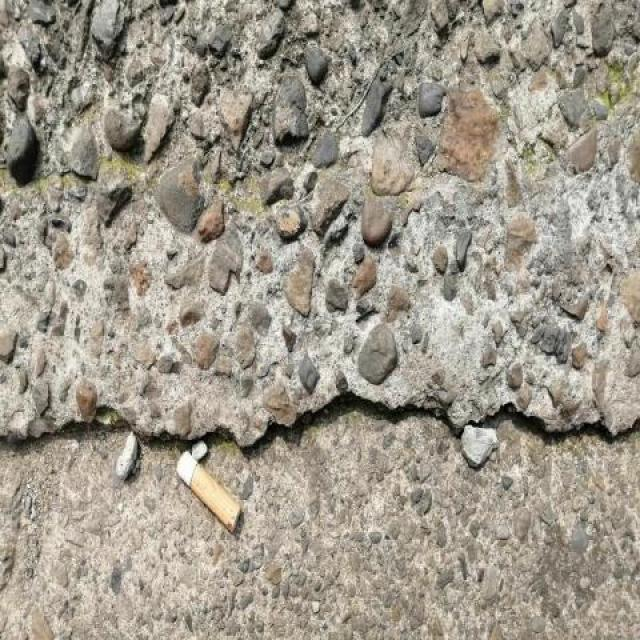non-organic waste: (171, 444, 245, 535)
